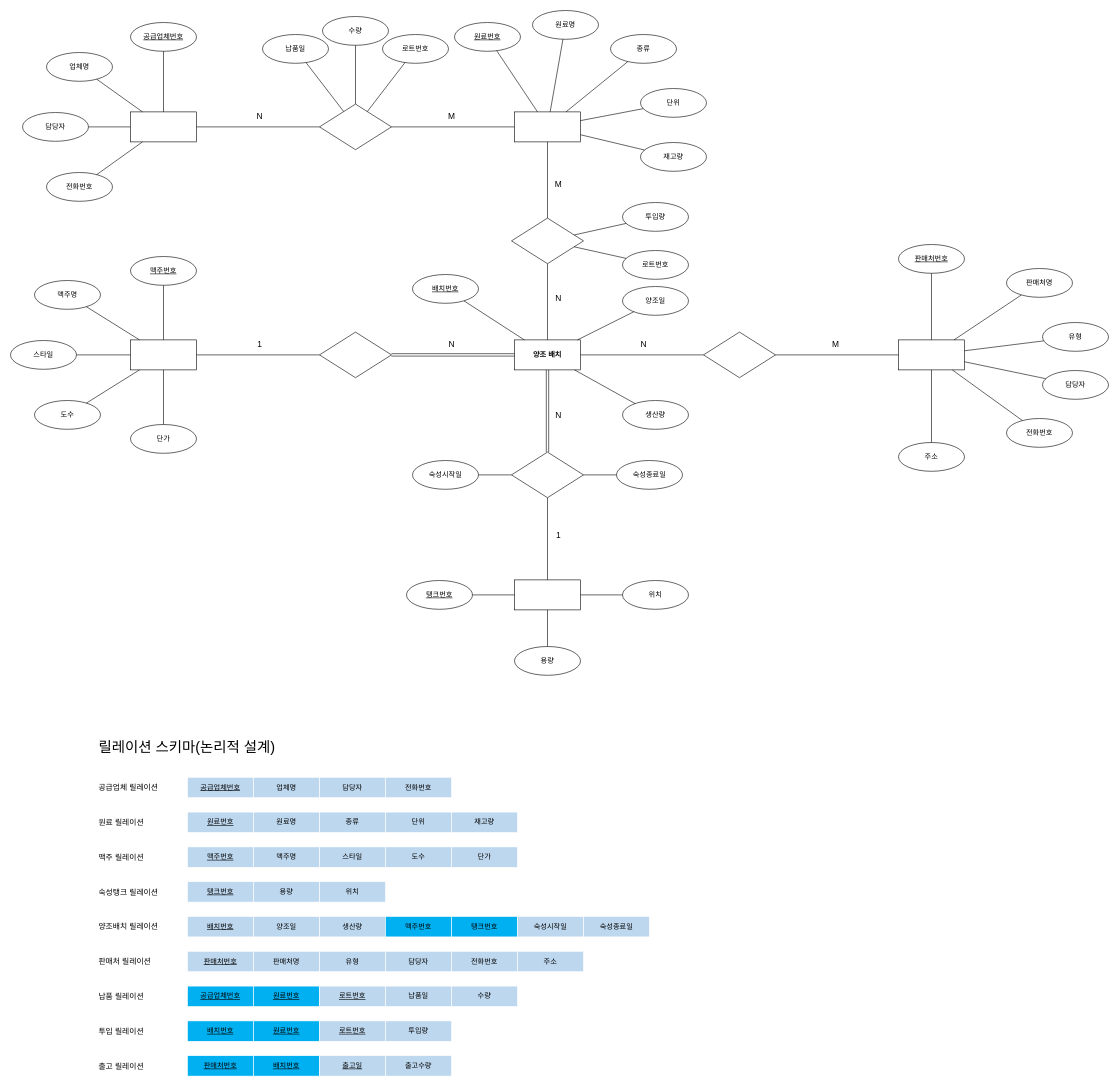
This 1119x1087 diagram has some shape labels left out. The shapes that lost their labels are listed below. From the top down, each one's box as (x1, y1, x2, y2) in pixels, then its label:
(130, 111, 196, 142): 공급업체
(319, 104, 392, 150): 납품
(514, 111, 580, 142): 원료
(511, 218, 584, 264): 투입
(130, 339, 196, 370): 맥주
(319, 332, 392, 378): 생산
(703, 332, 776, 378): 출고
(898, 339, 964, 370): 판매처
(511, 452, 584, 498): 숙성
(514, 579, 580, 610): 숙성 탱크
